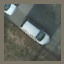car: (19, 17, 51, 45)
